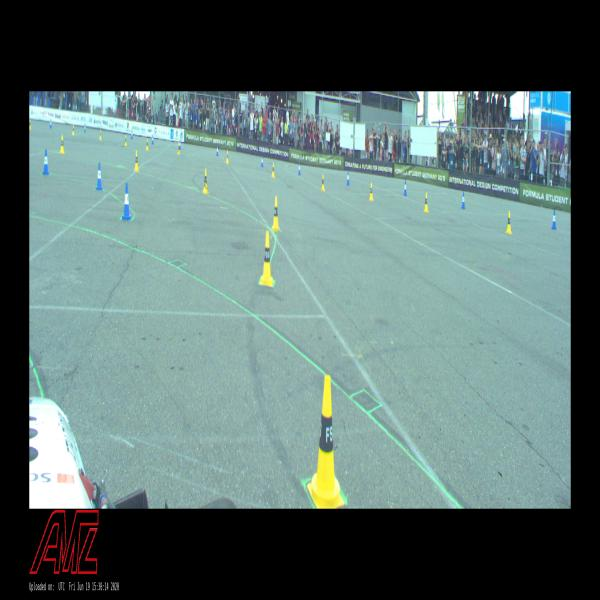blue_cone: (122, 183, 131, 219), (96, 162, 102, 190), (43, 149, 49, 174), (551, 209, 557, 229), (461, 192, 465, 208), (404, 180, 407, 196), (298, 162, 301, 175), (216, 145, 219, 156), (347, 172, 349, 185), (261, 155, 263, 167), (50, 119, 52, 128), (131, 130, 133, 139), (84, 124, 86, 132), (180, 140, 181, 150), (152, 135, 153, 144)
yellow_cone: (308, 375, 344, 508), (260, 231, 274, 286), (272, 196, 280, 231), (202, 168, 209, 194), (506, 211, 512, 234), (134, 150, 139, 172), (369, 182, 374, 201), (60, 135, 65, 153), (424, 192, 428, 212), (321, 174, 325, 191), (272, 163, 275, 177), (226, 151, 229, 163), (146, 138, 149, 150), (72, 125, 75, 135), (99, 130, 102, 140), (178, 143, 180, 154), (125, 135, 127, 146), (29, 120, 31, 130)
